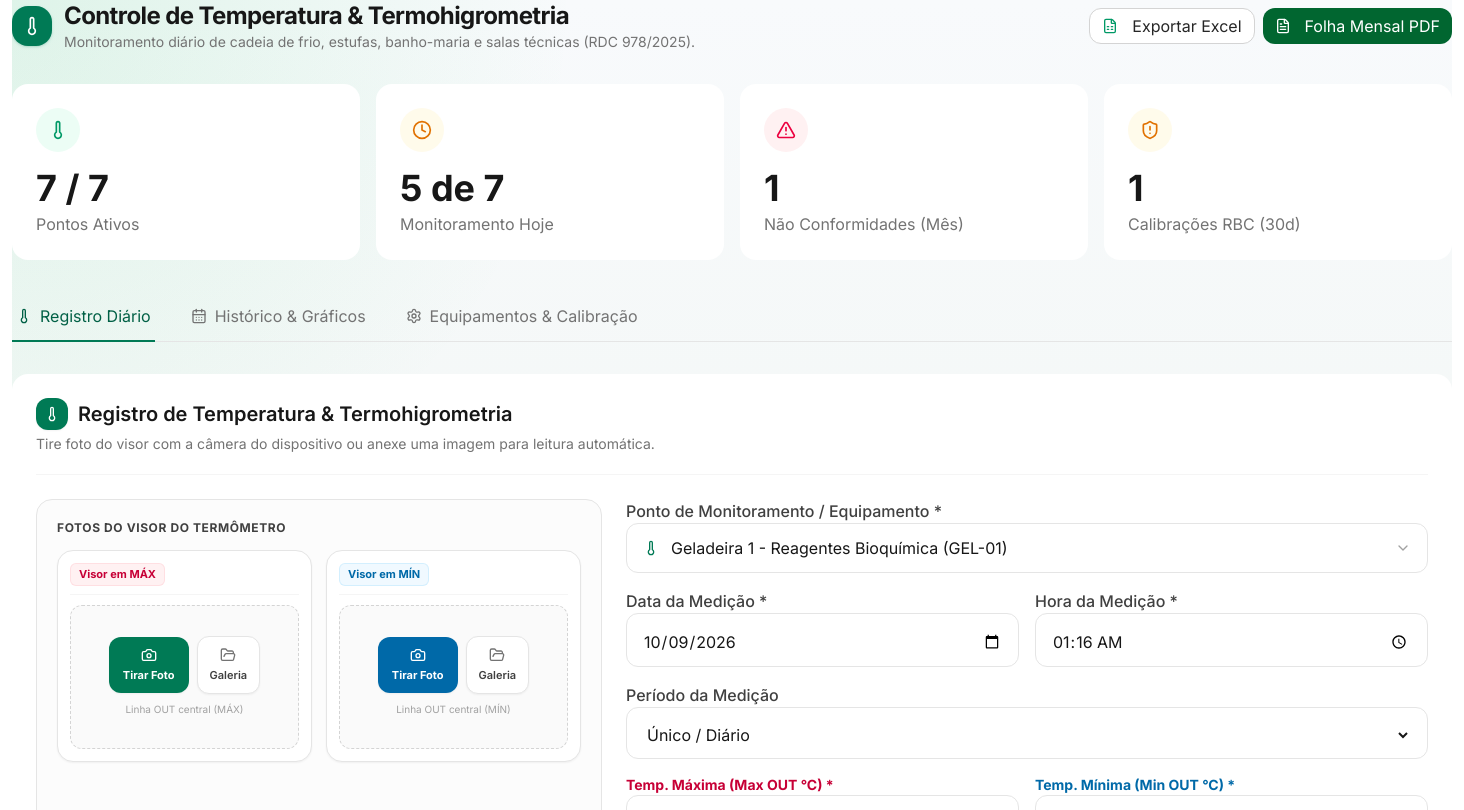
Scenario: TemperaturaTab › permite alternar para a aba Histórico & Gráficos e exibe registros com Temp. Ambiente
Step 1. Click the button "Histórico & Gráficos" → [278, 317], box [187,292,370,342]
(page scrolled)
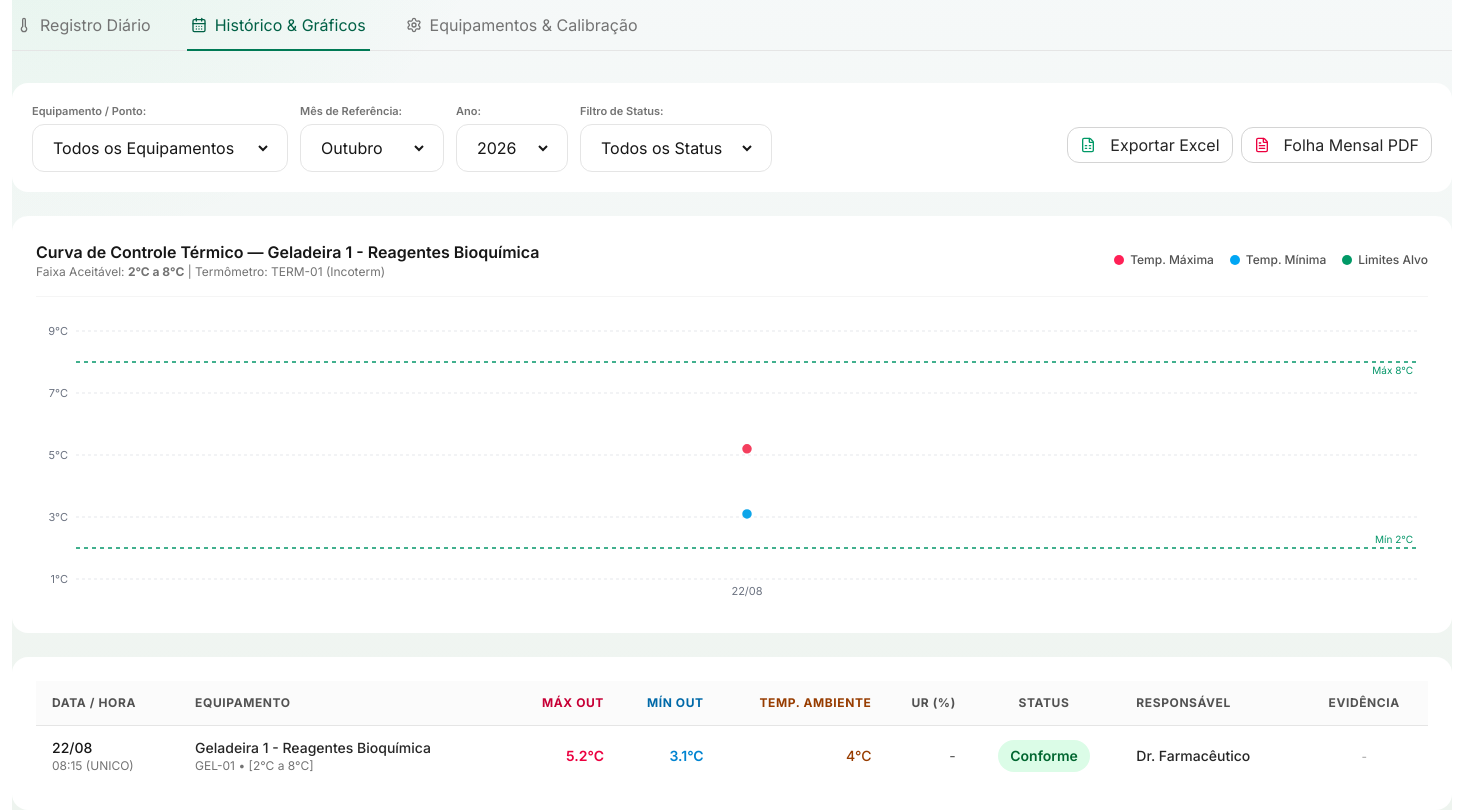
Result: the heading "Curva de Controle Térmico — Geladeira 1 - Reagentes Bioquímica" is shown at [36,240,540,264]
Result: the text "Dr. Farmacêutico" is shown at [1136,746,1250,764]
Result: the text "Conforme" is shown at [998,740,1090,772]
